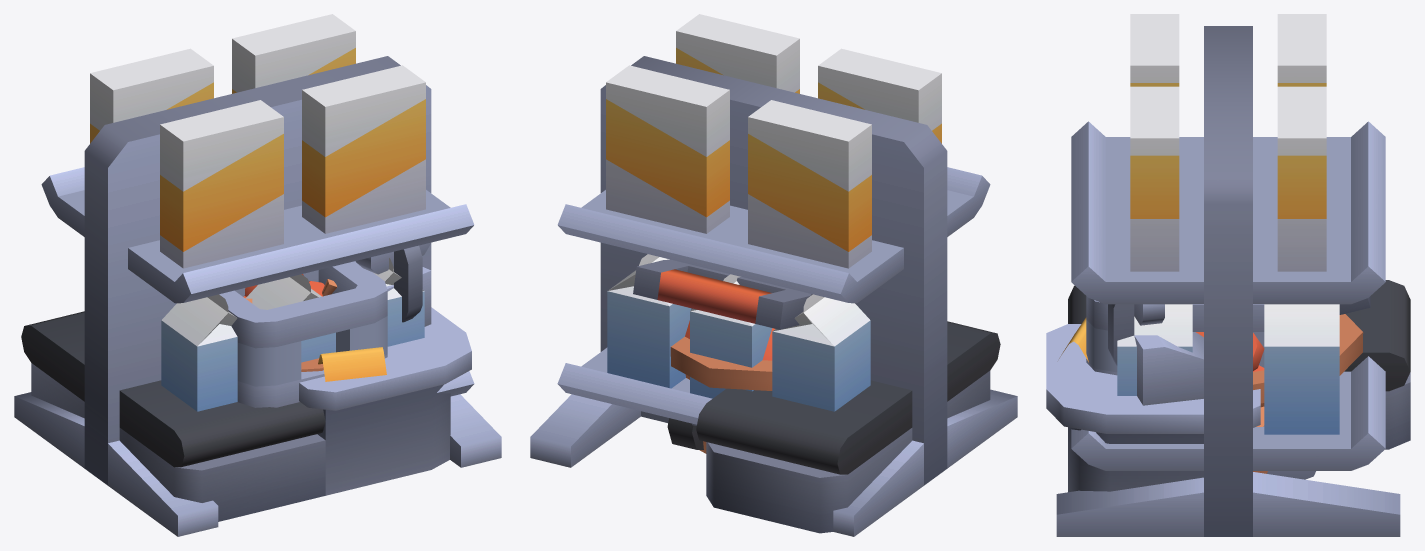
Rendered from shops.glb.
3 views of the same model, side by side, from view 1: azimuth 30°, elevation 25°; view 2: azimuth 150°, elevation 25°; view 3: azimuth 270°, elevation 25° (orthographic). The views are drawn at different scales.
Parts seen in each view (by area): view 1: shelf-boxes, cash-register, shopping-cart, display-fruit; view 2: shelf-boxes, cash-register, shopping-cart, display-fruit; view 3: shelf-boxes, cash-register, shopping-cart, display-fruit.
Boxes of the visible parts, box(x1,y1,x2,y2) form: shelf-boxes: box(14, 14, 501, 536); cash-register: box(21, 242, 471, 521); shopping-cart: box(219, 261, 387, 407); display-fruit: box(243, 274, 336, 371); shelf-boxes: box(530, 14, 1017, 536); cash-register: box(696, 321, 1000, 533); shopping-cart: box(633, 259, 812, 449); display-fruit: box(670, 320, 774, 453); shelf-boxes: box(1056, 14, 1400, 536); cash-register: box(1046, 280, 1410, 492); shopping-cart: box(1086, 296, 1370, 479); display-fruit: box(1196, 314, 1363, 473).
Bounding box in the file's own units: 1.69 × 1.8 × 1.57.
Materials: 1 (1 with a texture image).
